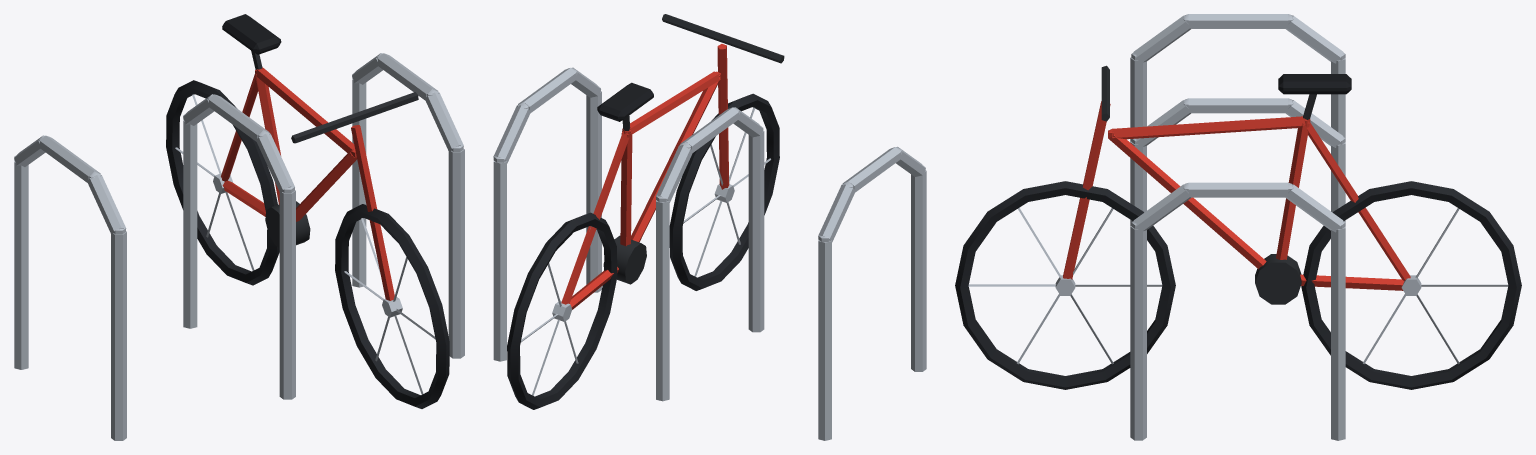
File: bike_rack.glb
3 views of the same model, side by side, from view 1: azimuth 30°, elevation 25°; view 2: azimuth 150°, elevation 25°; view 3: azimuth 270°, elevation 25° (orthographic). The views are drawn at different scales.
Visible parts, largest first — view 1: bike_rack; view 2: bike_rack; view 3: bike_rack.
Boxes of the visible parts, bbox=[...] form: bike_rack: bbox=[14, 14, 464, 440]; bike_rack: bbox=[493, 14, 926, 440]; bike_rack: bbox=[955, 14, 1521, 440].
Bounding box in the file's own units: 1.25 × 0.9982 × 1.7.
